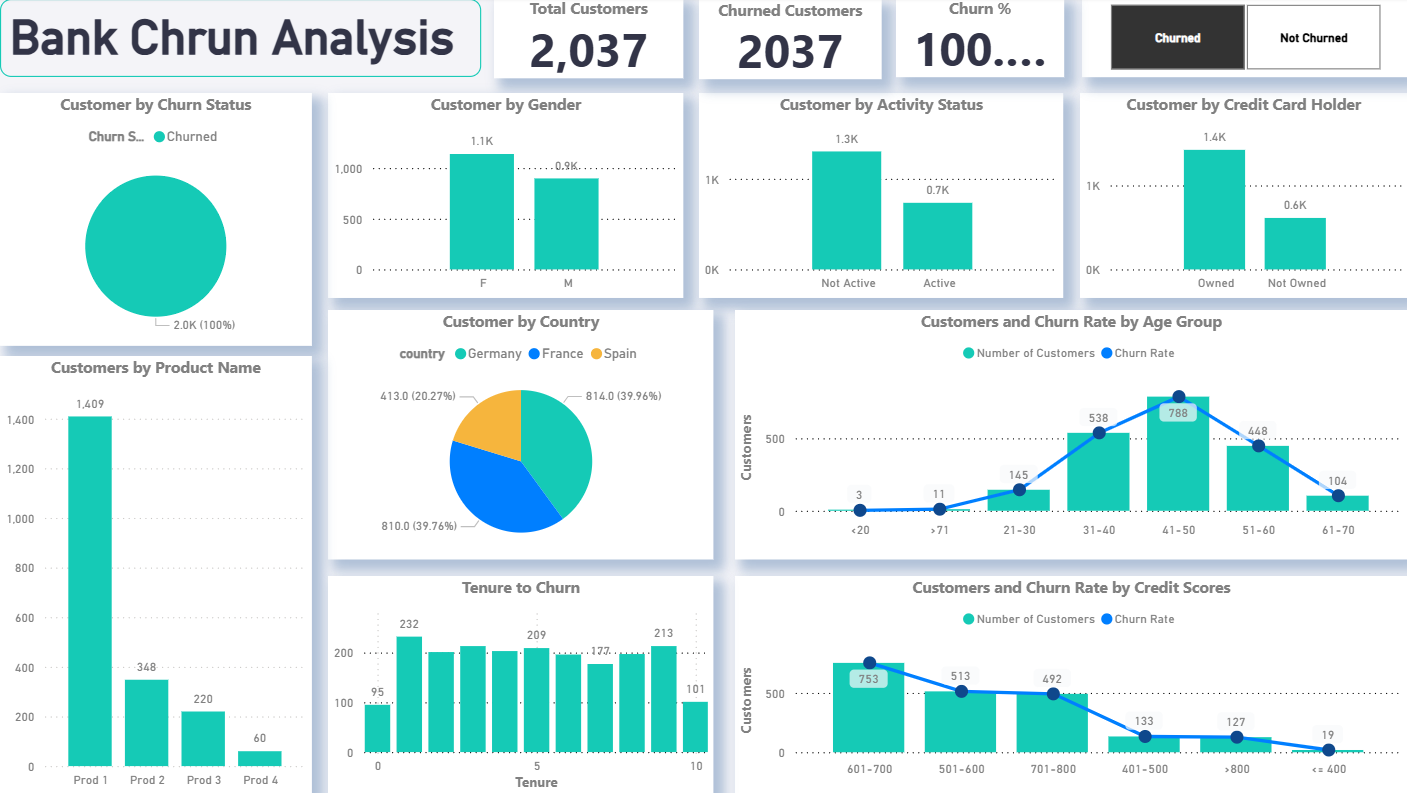

What the dashboard file says about the page in this screenshot:
{"tool":"powerbi","page":{"name":"Bank Churn Dashabord","canvas":[1280,720],"ordinal":0},"visuals":[{"type":"card","title":"Total Customers","fields":{"Values":["Bank Customer Churn Prediction.Number of Customers"]},"box":[443.4,0,170.1,73.1],"z":0},{"type":"columnChart","title":"Customer by Gender","fields":{"Category":["Bank Customer Churn Prediction.gender"],"Y":["Bank Customer Churn Prediction.Number of Customers"]},"box":[294,85.8,319.5,184.4],"z":1000},{"type":"columnChart","title":"Customer by Activity Status","fields":{"Category":["Bank Customer Churn Prediction.Activity Status"],"Y":["Bank Customer Churn Prediction.Number of Customers"]},"box":[627.8,85.8,327.4,184.4],"z":2000},{"type":"columnChart","title":"Customer by Credit Card Holder","fields":{"Category":["Bank Customer Churn Prediction.Credit Card Holder"],"Y":["Bank Customer Churn Prediction.Number of Customers"]},"box":[969.5,85.8,294,184.4],"z":3000},{"type":"pieChart","title":"Customer by Churn Status","fields":{"Category":["Bank Customer Churn Prediction.Churn Status"],"Y":["Bank Customer Churn Prediction.Number of Customers"]},"box":[0,85.8,279.7,227.3],"z":4000},{"type":"pieChart","title":"Customer by Country","fields":{"Category":["Bank Customer Churn Prediction.country"],"Y":["Bank Customer Churn Prediction.Number of Customers"]},"box":[294,281.3,346.5,224.1],"z":5000},{"type":"lineClusteredColumnComboChart","title":"Customers and Churn Rate by Age Group","fields":{"Y":["Bank Customer Churn Prediction.Number of Customers"],"Category":["Bank Customer Churn Prediction.Age Group"],"Y2":["CountNonNull(Bank Customer Churn Prediction.Churn Status)"]},"box":[659.6,281.3,604,224.1],"z":6000},{"type":"textbox","box":[0,1.6,432.3,69.9],"z":7000},{"type":"slicer","fields":{"Values":["Bank Customer Churn Prediction.Churn Status"]},"box":[971.1,0,292.5,71.5],"z":8000},{"type":"columnChart","title":"Customers by Product Name","fields":{"Category":["Bank Customer Churn Prediction.Product Name"],"Y":["Bank Customer Churn Prediction.Number of Customers"]},"box":[0,322.6,279.7,394.2],"z":9000},{"type":"lineClusteredColumnComboChart","title":"Customers and Churn Rate by Credit Scores","fields":{"Y":["Bank Customer Churn Prediction.Number of Customers"],"Y2":["CountNonNull(Bank Customer Churn Prediction.Churn Status)"],"Category":["Bank Customer Churn Prediction.Credit Scores"]},"box":[659.6,519.7,604,200.3],"z":10000},{"type":"clusteredColumnChart","title":"Tenure to Churn","fields":{"Category":["Bank Customer Churn Prediction.Tenure"],"Y":["CountNonNull(Bank Customer Churn Prediction.Churn Status)"]},"box":[294,519.7,346.5,197.1],"z":11000},{"type":"card","title":"Churned Customers","fields":{"Values":["Bank Customer Churn Prediction.Curned Customers"]},"box":[627.8,1.6,163.7,71.5],"z":12000},{"type":"card","title":"Churn %","fields":{"Values":["Bank Customer Churn Prediction.Churn Rate"]},"box":[804.2,0,151,71.5],"z":13000}]}

Visuals, with their boxes in screenshot pixels (x1, y1, x2, y2), scaled from the page's 1280x720 canvas onto the 1407x793 screenshot:
"Total Customers" card: x1=487, y1=0, x2=674, y2=81
"Customer by Gender" columnChart: x1=323, y1=94, x2=674, y2=298
"Customer by Activity Status" columnChart: x1=690, y1=94, x2=1050, y2=298
"Customer by Credit Card Holder" columnChart: x1=1066, y1=94, x2=1389, y2=298
"Customer by Churn Status" pieChart: x1=0, y1=94, x2=307, y2=345
"Customer by Country" pieChart: x1=323, y1=310, x2=704, y2=557
"Customers and Churn Rate by Age Group" lineClusteredColumnComboChart: x1=725, y1=310, x2=1389, y2=557
textbox: x1=0, y1=2, x2=475, y2=79
slicer - Bank Customer Churn Prediction.Churn Status: x1=1067, y1=0, x2=1389, y2=79
"Customers by Product Name" columnChart: x1=0, y1=355, x2=307, y2=789
"Customers and Churn Rate by Credit Scores" lineClusteredColumnComboChart: x1=725, y1=572, x2=1389, y2=792
"Tenure to Churn" clusteredColumnChart: x1=323, y1=572, x2=704, y2=789
"Churned Customers" card: x1=690, y1=2, x2=870, y2=81
"Churn %" card: x1=884, y1=0, x2=1050, y2=79
